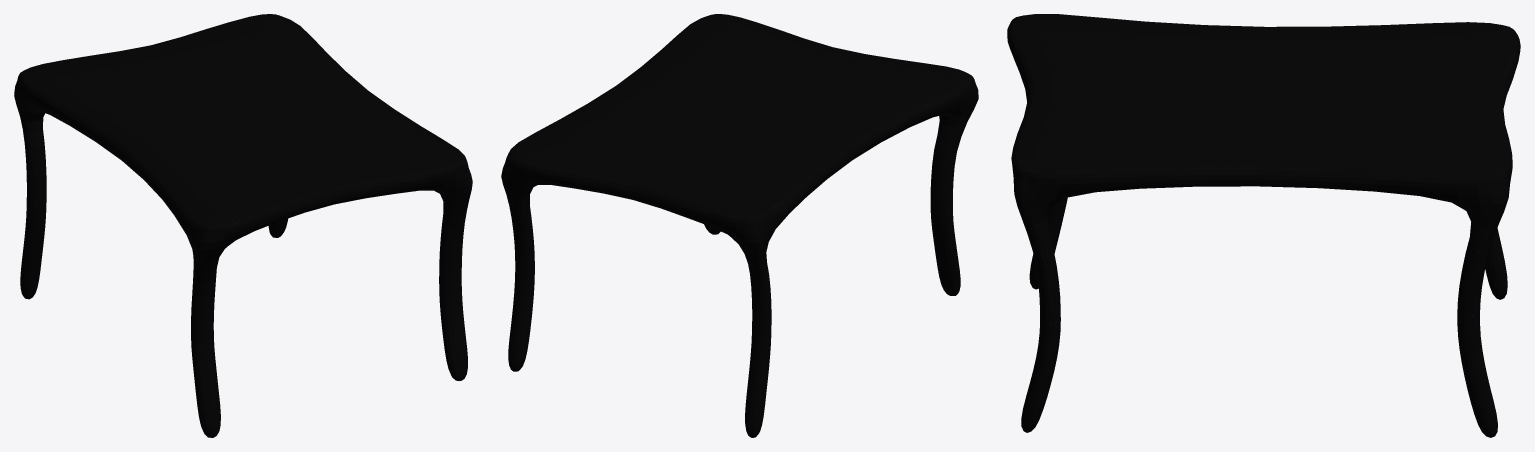
The model's file is table2.fbx.
The picture shows the model from 3 angles, left to right: view 1: azimuth 30°, elevation 25°; view 2: azimuth 150°, elevation 25°; view 3: azimuth 270°, elevation 25°; orthographic projection. The views are drawn at different scales.
Visible parts, largest first — view 1: node_id4; view 2: node_id4; view 3: node_id4.
Part boxes in pixels (x1=…): node_id4: x1=14, y1=14, x2=472, y2=437; node_id4: x1=501, y1=14, x2=978, y2=437; node_id4: x1=1007, y1=14, x2=1520, y2=437.
Bounding box in the file's own units: 0.5091 × 0.388 × 0.6582.
1 material, 1 textured.
